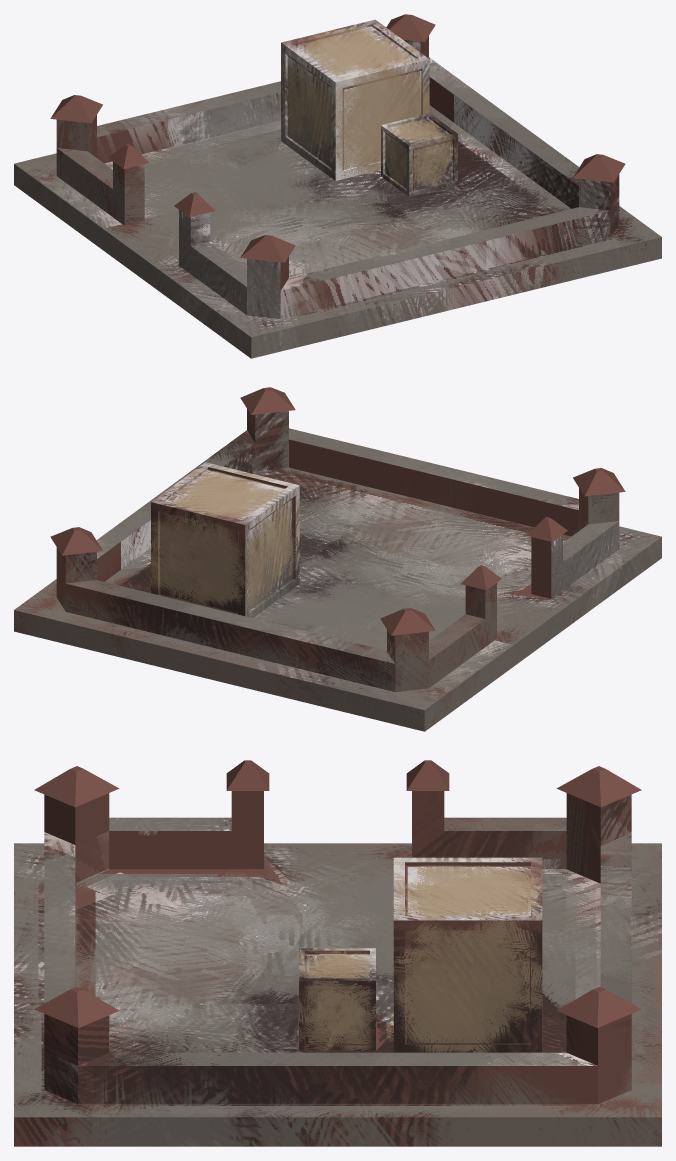
3 views of the same model, one above another, from view 1: azimuth 30°, elevation 25°; view 2: azimuth 150°, elevation 25°; view 3: azimuth 270°, elevation 25° (orthographic). The views are drawn at different scales.
Parts seen in each view (by area): view 1: 1x1A; view 2: 1x1A; view 3: 1x1A.
Part boxes in pixels (x1,y1,x2,y2): 1x1A: [14, 14, 661, 358]; 1x1A: [14, 387, 661, 731]; 1x1A: [14, 760, 661, 1146].
Size of the model in its own units: 1 by 0.2794 by 1.
Materials: 2 (1 with a texture image).
